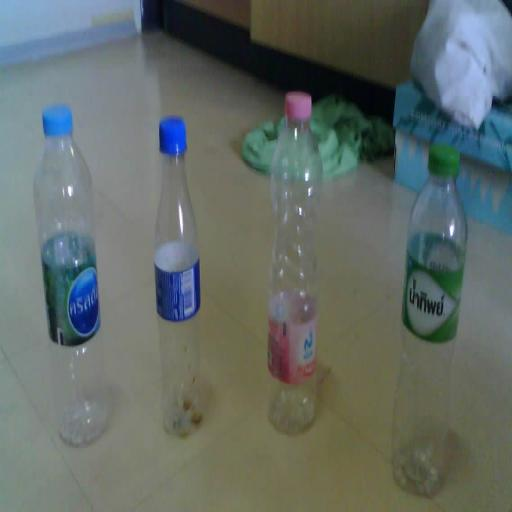bottle: (392, 142, 466, 501), (34, 103, 106, 448), (266, 88, 320, 438), (154, 114, 202, 437)
